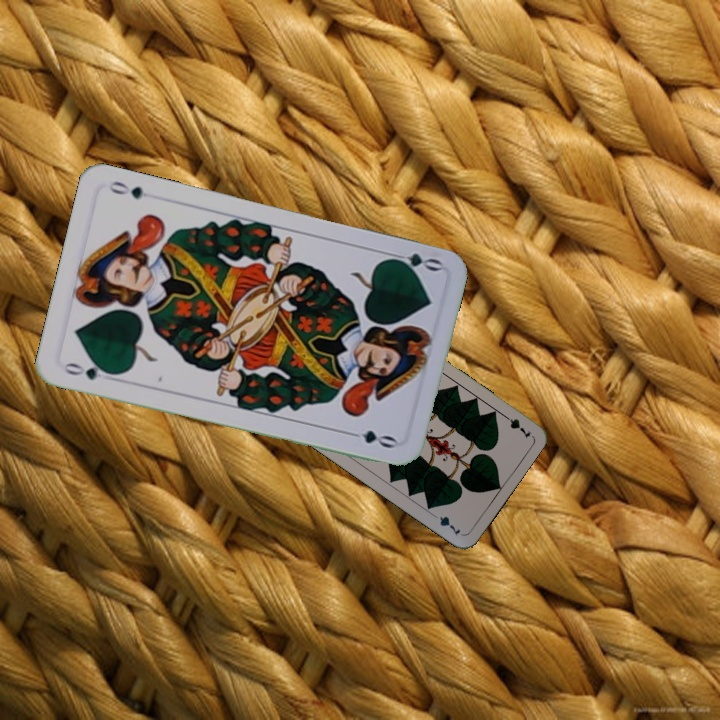G7: (498, 409, 534, 441)
GO: (384, 248, 444, 274), (60, 358, 118, 384)
